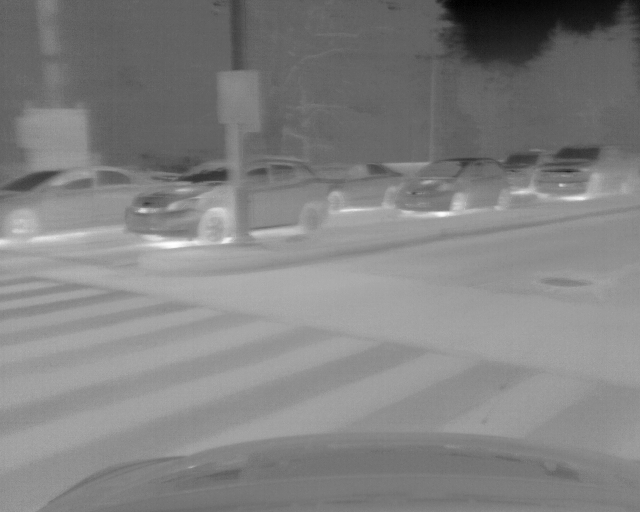car: (127, 155, 331, 245), (2, 163, 168, 240), (390, 157, 509, 214), (537, 142, 640, 200), (314, 161, 406, 214), (503, 150, 555, 197)
